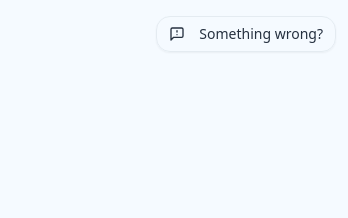
Test: TrialReportControl › offers the opposite for a trial marked correct
This screenshot has width=348, height=218.
Click the button "Something wrong?": (246, 34) 156,16 -> 336,52
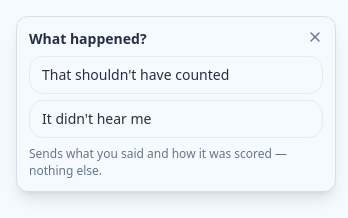
Check: the button "That shouldn't have counted" is shown, box 29,56 -> 323,94
